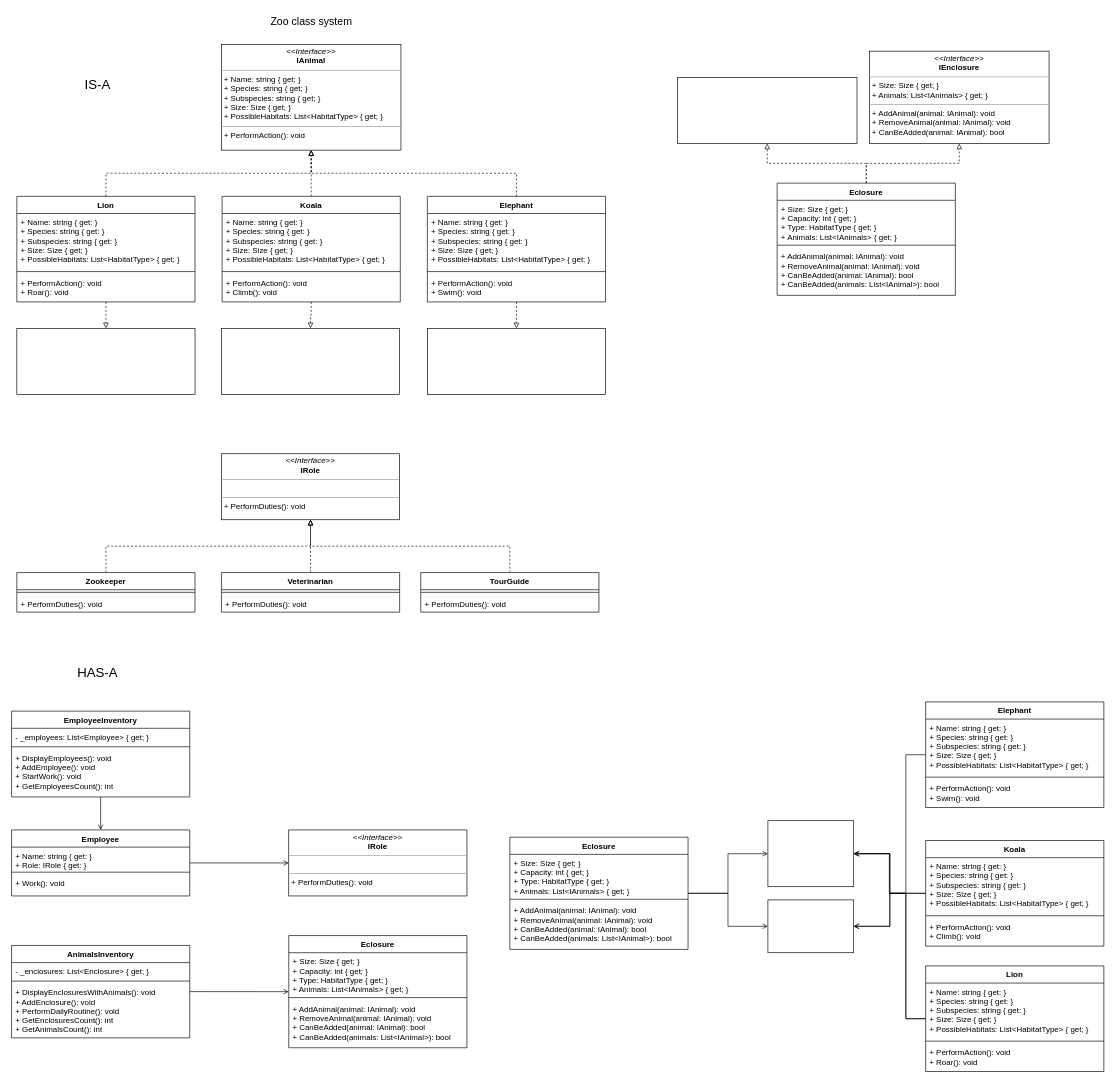
This 1115x1084 diagram has some shape labels left out. Here are the shapes that lost their labels. From the top down, the centre of each, then its label:
At [767,110]: "<<Interface>> IHabitat + Capacity: int { get; } + Type: HabitatType { get; }".
At [105,361]: "<<Interface>> ICanRoar + Roar(): void".
At [310,361]: "<<Interface>> ICanClimb + Climb(): void".
At [516,361]: "<<Interface>> ICanSwim + Swim(): void".
At [810,853]: "<<Enumeration>> Size Small Medium Large".
At [810,926]: "<<Enumeration>> HabitatType Savanna EucalyptusForest".
